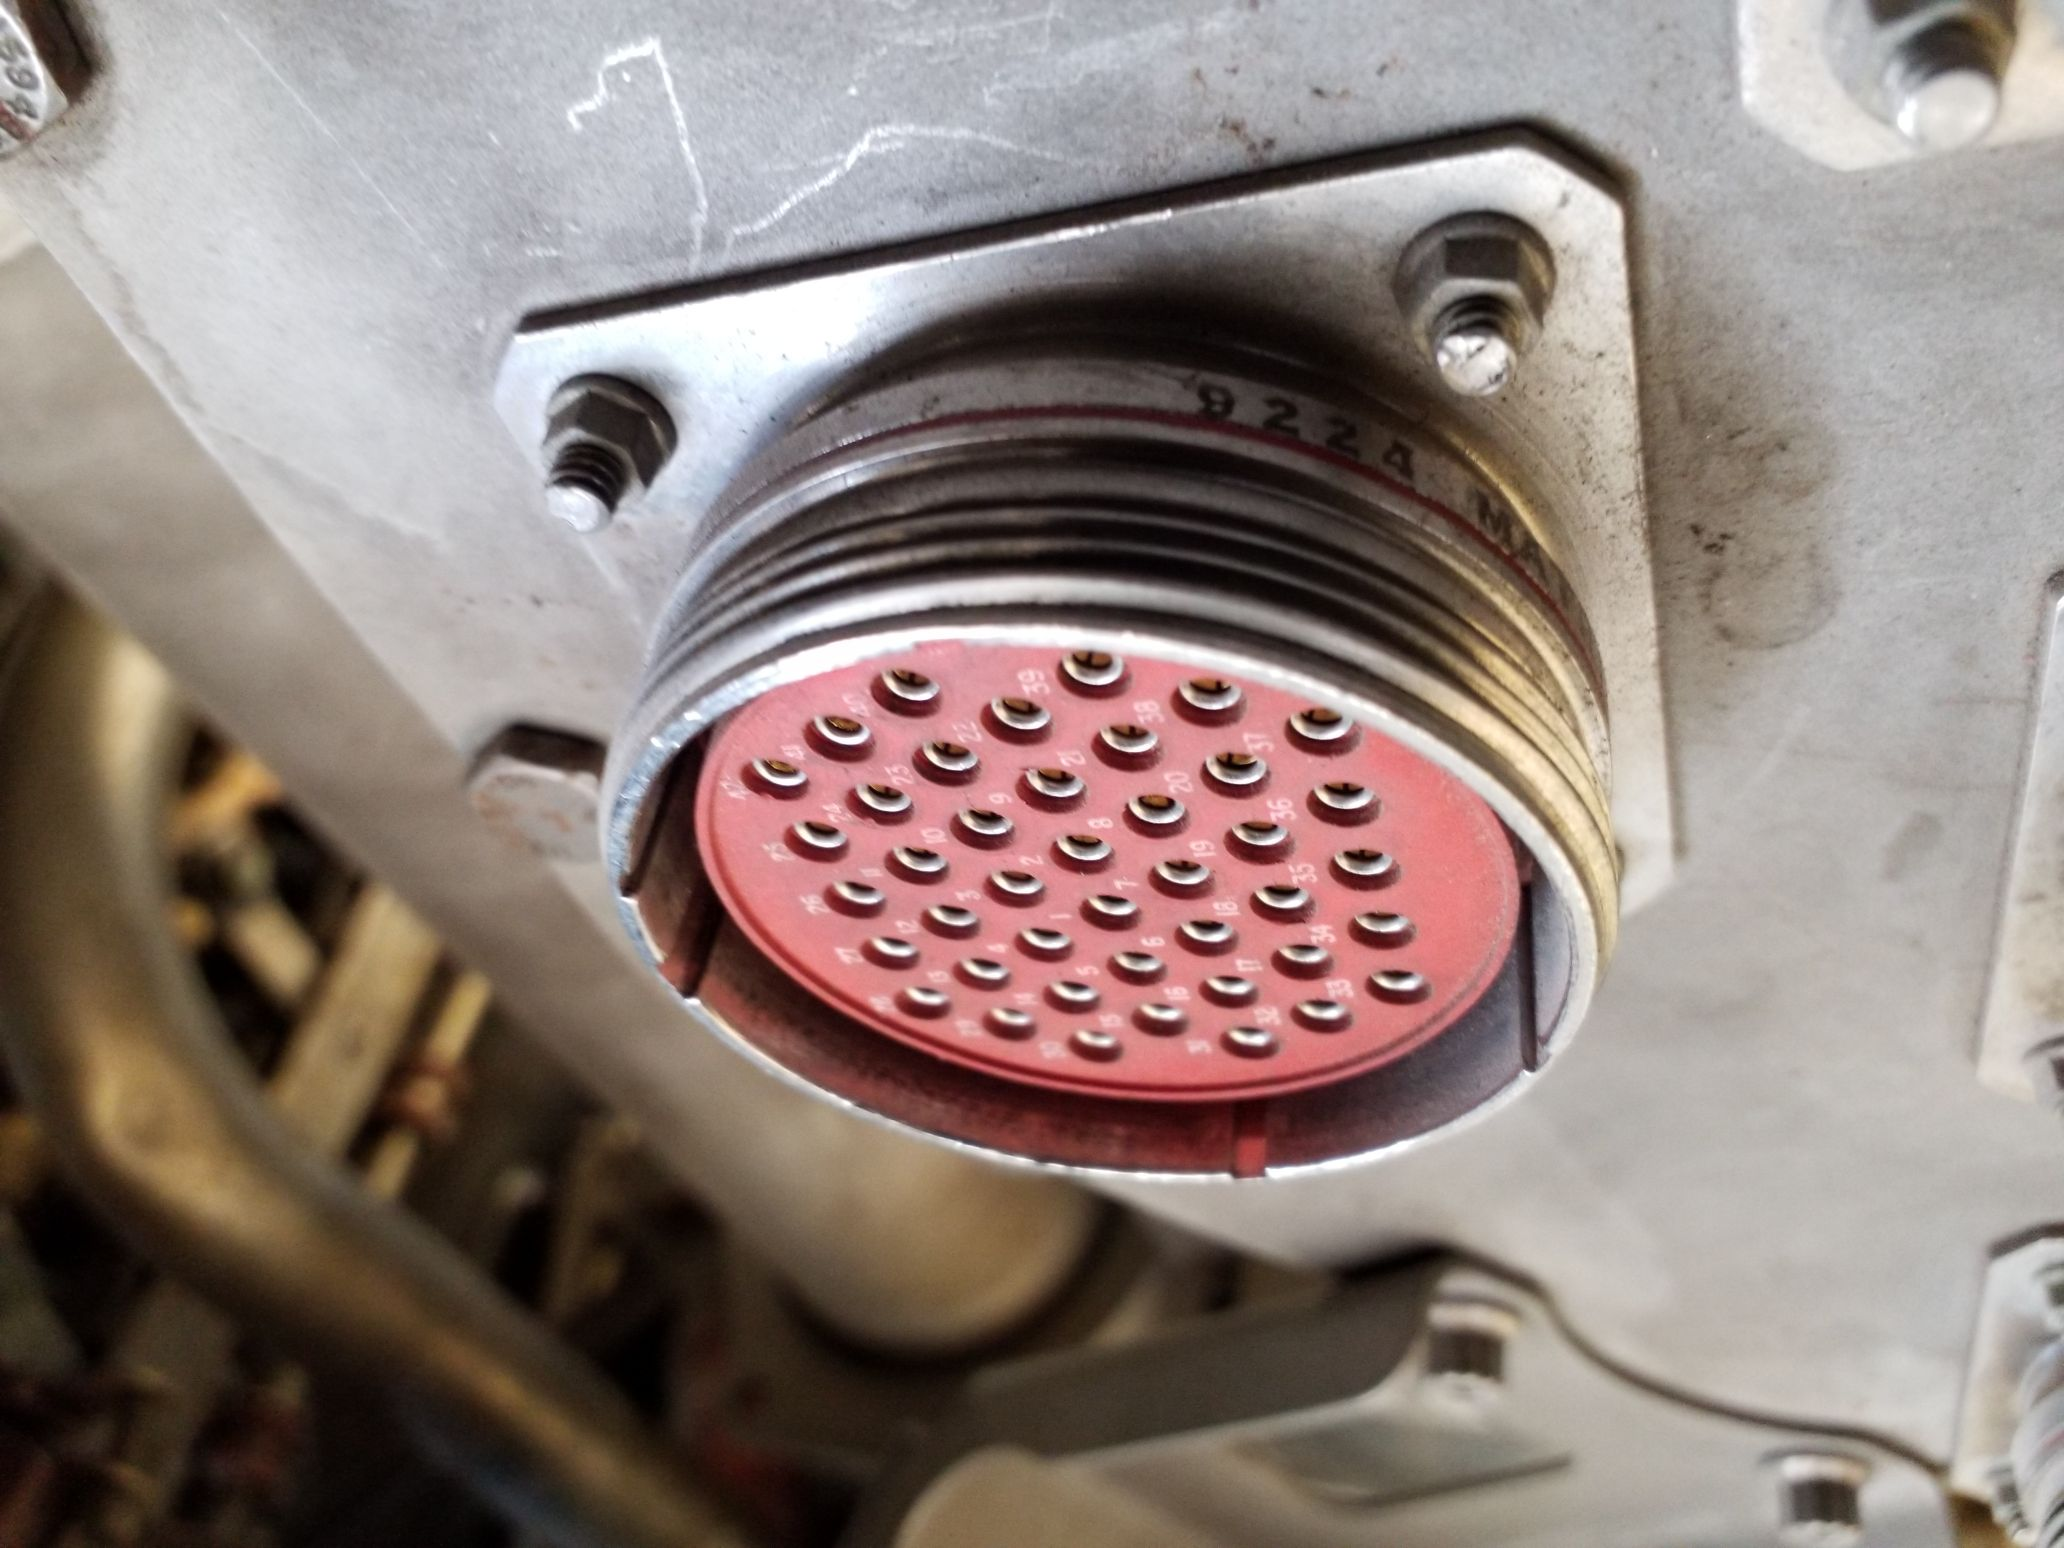inletnumbers: (561, 519, 1641, 1207)
